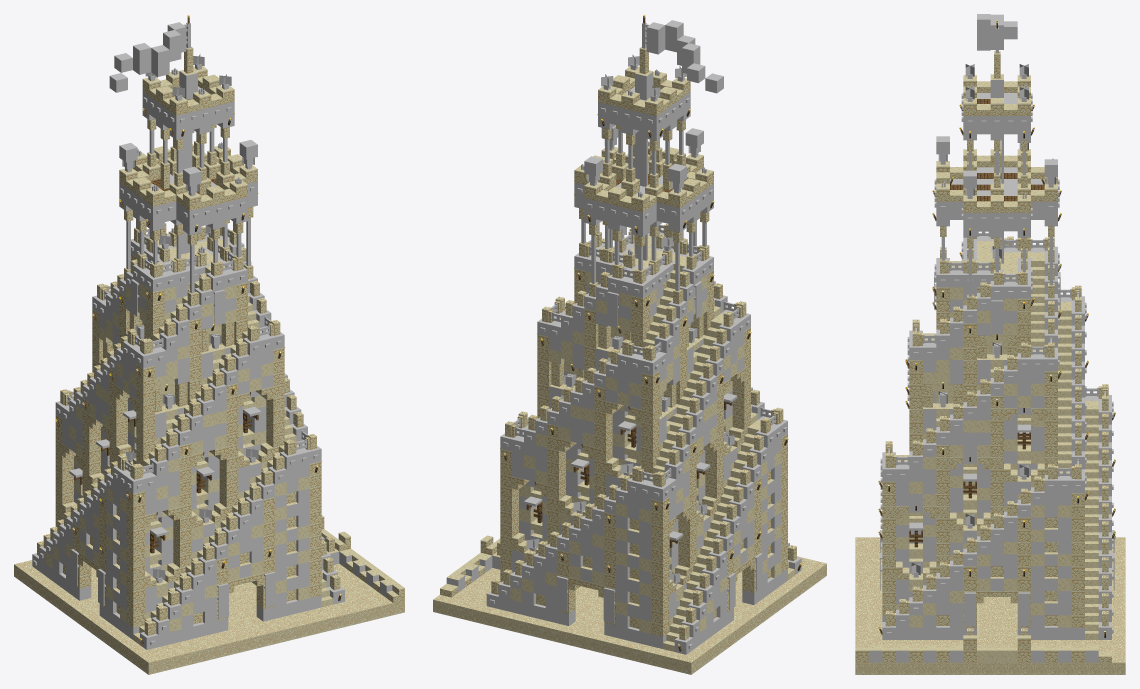
File: tower.fbx
The picture shows the model from 3 angles, left to right: view 1: azimuth 30°, elevation 25°; view 2: azimuth 150°, elevation 25°; view 3: azimuth 270°, elevation 25°; orthographic projection.
Visible parts, largest first — view 1: Babylonian_Buildpack__32_7_3_to_53_319_22; view 2: Babylonian_Buildpack__32_7_3_to_53_319_22; view 3: Babylonian_Buildpack__32_7_3_to_53_319_22.
Boxes of the visible parts, <box> form: Babylonian_Buildpack__32_7_3_to_53_319_22: <box>14,15,404,674</box>; Babylonian_Buildpack__32_7_3_to_53_319_22: <box>433,15,826,674</box>; Babylonian_Buildpack__32_7_3_to_53_319_22: <box>855,14,1125,674</box>.
Bounding box in the file's own units: 2200 × 4769 × 2000.
